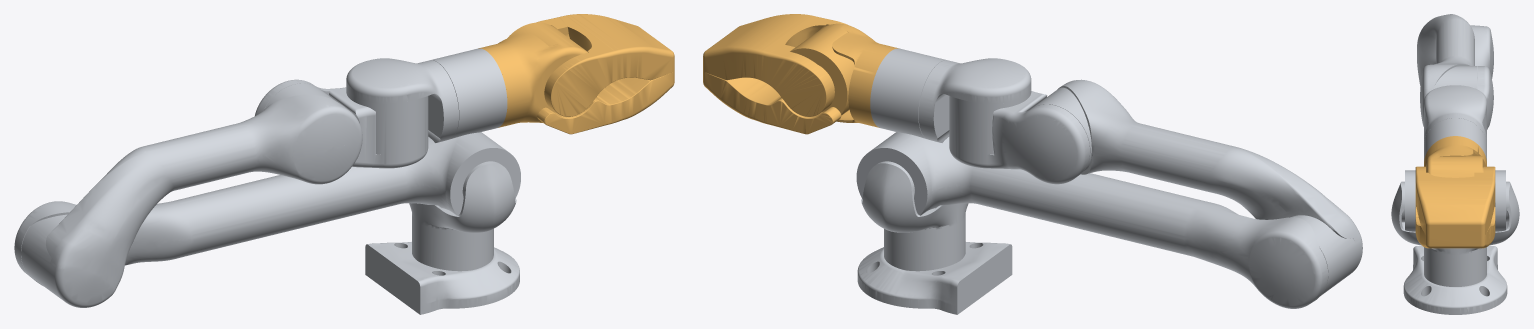
File: unitree_z1_manipulator.glb
The picture shows the model from 3 angles, left to right: view 1: azimuth 30°, elevation 25°; view 2: azimuth 150°, elevation 25°; view 3: azimuth 270°, elevation 25°; orthographic projection. The views are drawn at different scales.
Parts seen in each view (by area): view 1: link03, link02, link00, gripperStator, gripperMover, link04, link05, link01, link06; view 2: link02, link03, link00, link04, gripperStator, gripperMover, link05, link01, link06; view 3: link00, gripperMover, link03, gripperStator, link05, link02, link01, link06, link04.
Part boxes in pixels (bbox=[...]): link03: bbox=[21, 83, 362, 307]; link02: bbox=[14, 132, 520, 285]; link00: bbox=[365, 208, 519, 314]; gripperStator: bbox=[478, 22, 674, 134]; gripperMover: bbox=[536, 14, 674, 116]; link04: bbox=[255, 79, 428, 168]; link05: bbox=[346, 58, 458, 142]; link01: bbox=[409, 161, 516, 232]; link06: bbox=[430, 48, 507, 138]; link02: bbox=[856, 132, 1328, 308]; link03: bbox=[1032, 79, 1362, 296]; link00: bbox=[857, 208, 1012, 314]; link04: bbox=[949, 88, 1089, 184]; gripperStator: bbox=[703, 23, 899, 134]; gripperMover: bbox=[703, 14, 848, 116]; link05: bbox=[918, 58, 1031, 142]; link01: bbox=[861, 161, 968, 232]; link06: bbox=[870, 48, 946, 138]; link00: bbox=[1403, 246, 1507, 314]; gripperMover: bbox=[1415, 166, 1495, 236]; link03: bbox=[1417, 14, 1477, 126]; gripperStator: bbox=[1415, 136, 1495, 248]; link05: bbox=[1424, 85, 1486, 142]; link02: bbox=[1405, 25, 1505, 231]; link01: bbox=[1391, 181, 1519, 254]; link06: bbox=[1424, 118, 1486, 160]; link04: bbox=[1424, 66, 1493, 136].
Size of the model in its own units: 0.5697 by 0.198 by 0.1319.
